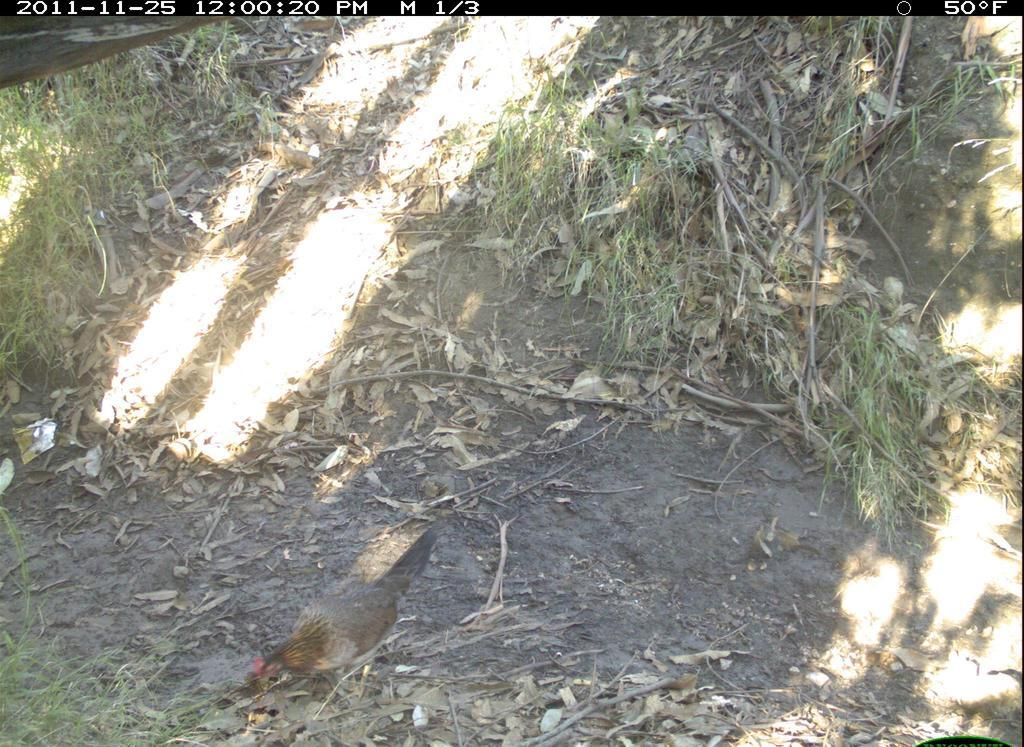bird: (245, 532, 438, 710)
